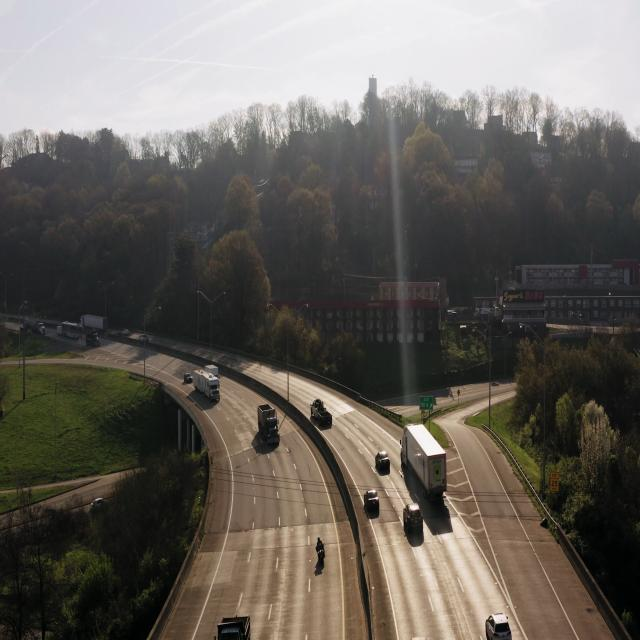Car: (398, 420, 449, 502), (256, 402, 282, 451), (311, 395, 335, 432), (484, 611, 514, 640), (402, 505, 426, 541), (374, 448, 393, 477), (364, 485, 380, 519)
